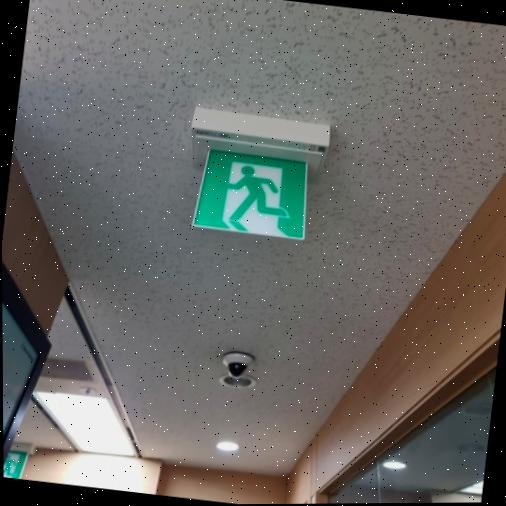emergency_exit: (189, 105, 331, 242), (191, 147, 309, 241)
